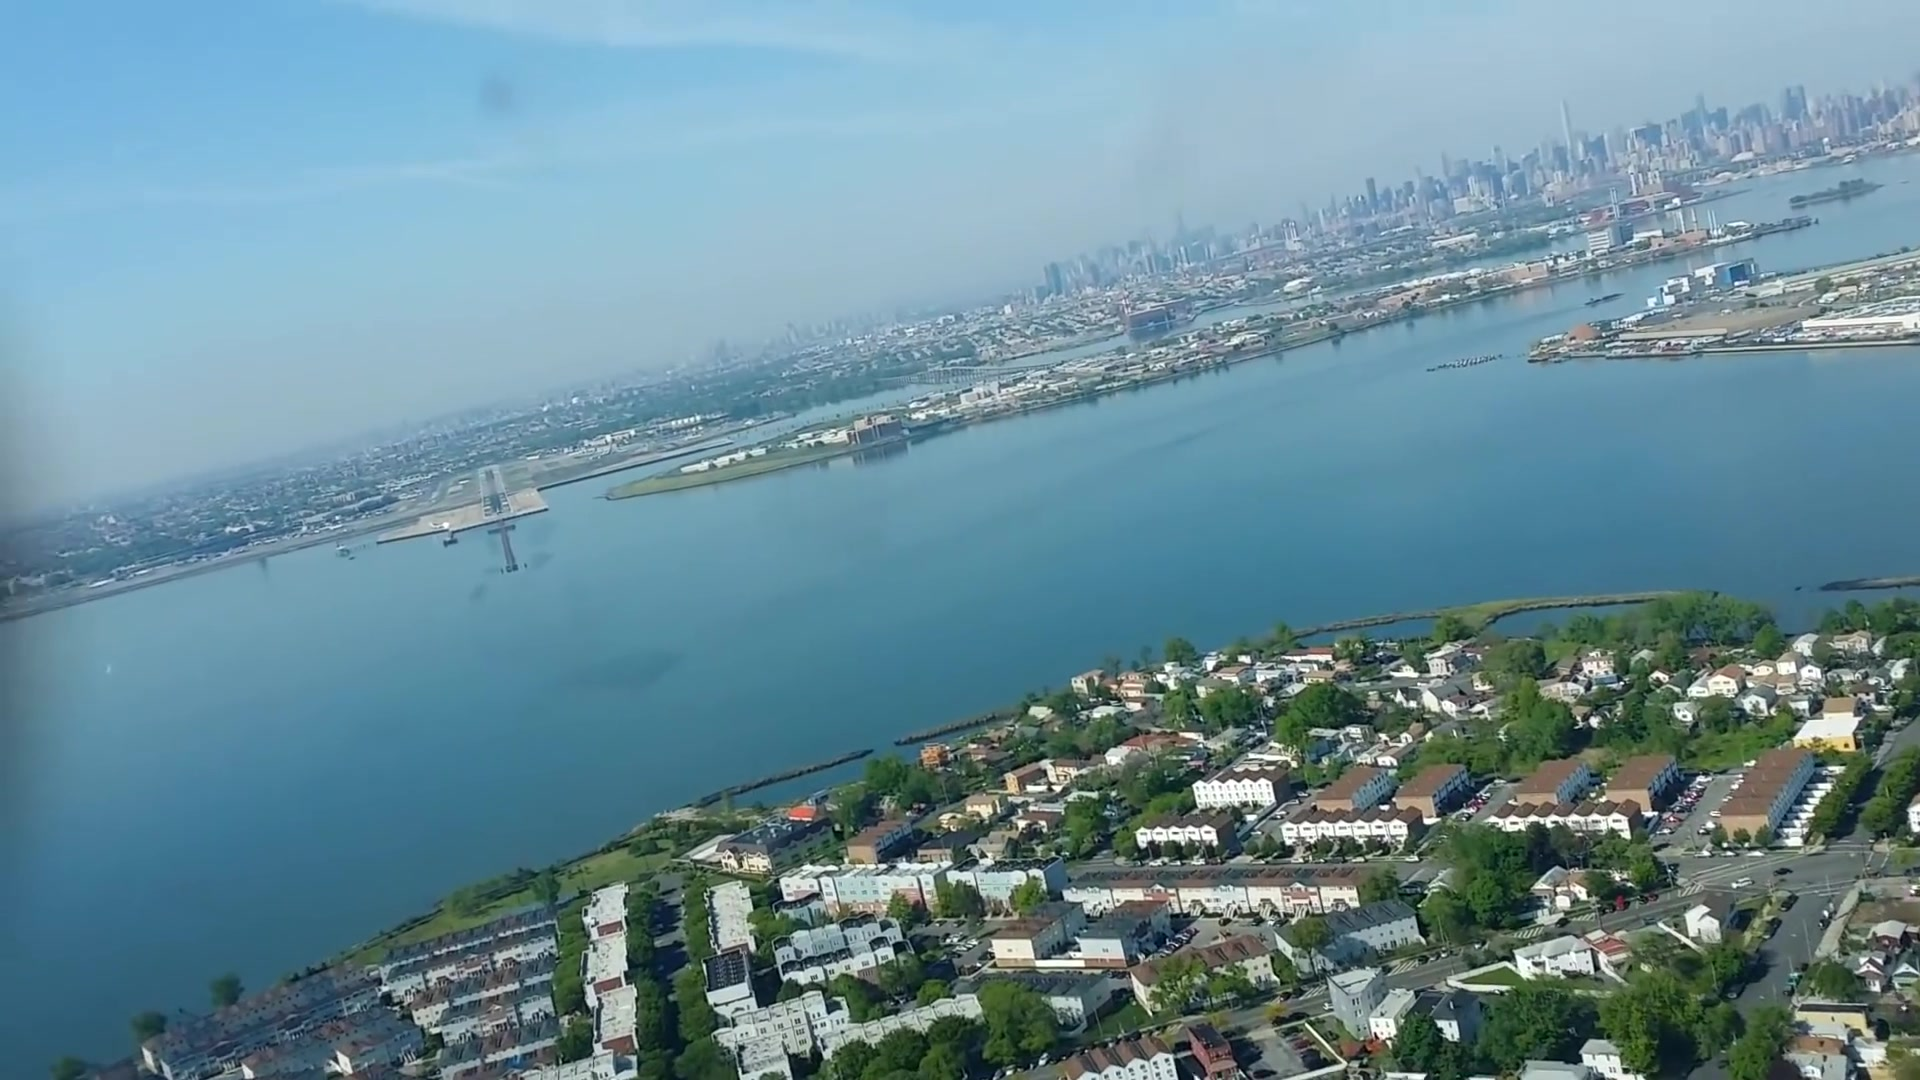runway: (475, 463, 513, 521)
